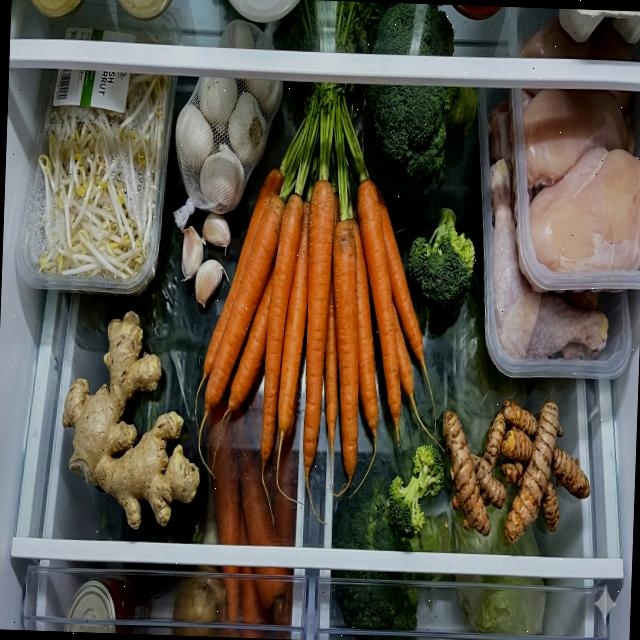bean_sprouts: (34, 67, 170, 280)
brocolli: (329, 454, 455, 640), (361, 2, 481, 195), (406, 207, 477, 315), (386, 444, 446, 540)
carrot: (200, 165, 430, 482), (200, 402, 300, 639)
chicken: (480, 99, 615, 365), (517, 87, 640, 274)
garlic: (172, 75, 284, 216), (178, 210, 232, 308)
ginger: (58, 308, 205, 530)
turmeric: (438, 393, 594, 547)
